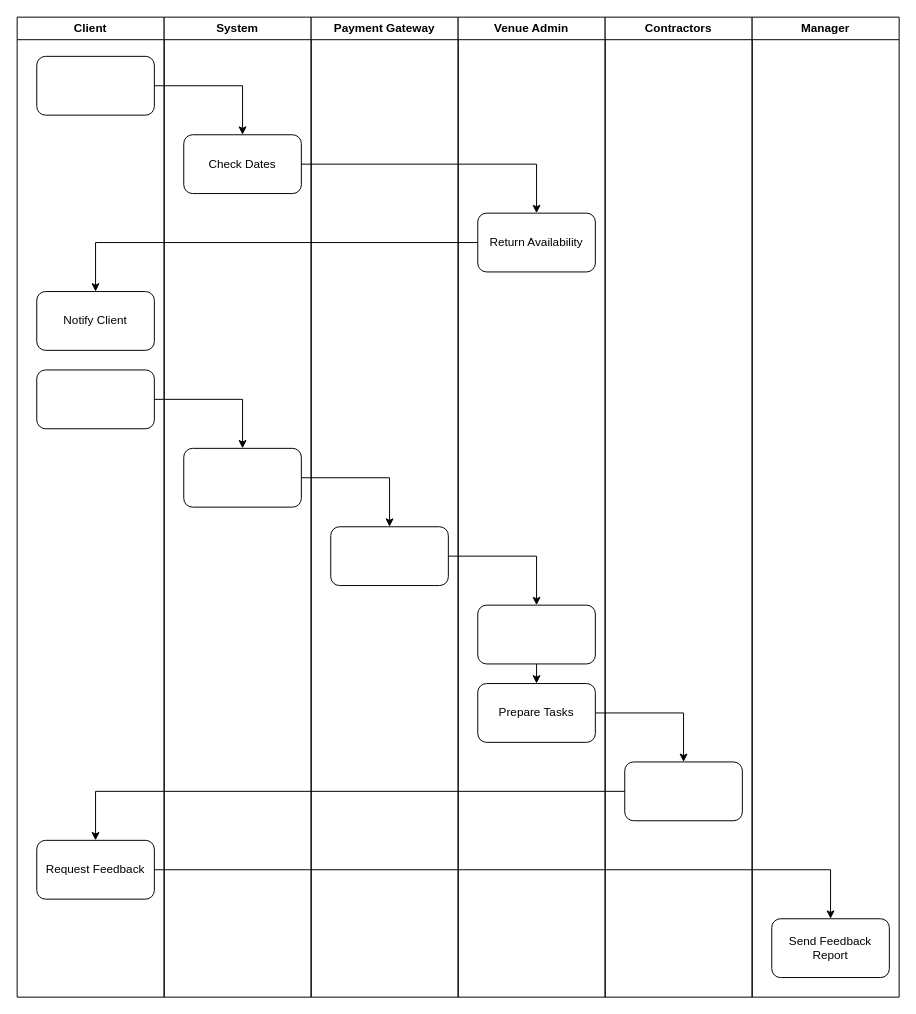
This 916x1014 diagram has some shape labels left out. Each missing label, with the box of its shape:
Complete Tasks: (624, 761, 742, 821)
Confirm Booking: (36, 369, 154, 429)
Notify Admin: (477, 604, 595, 664)
Payment Successful: (330, 526, 448, 586)
Request Payment: (183, 447, 301, 507)
Request Venue Availability: (36, 55, 154, 115)
